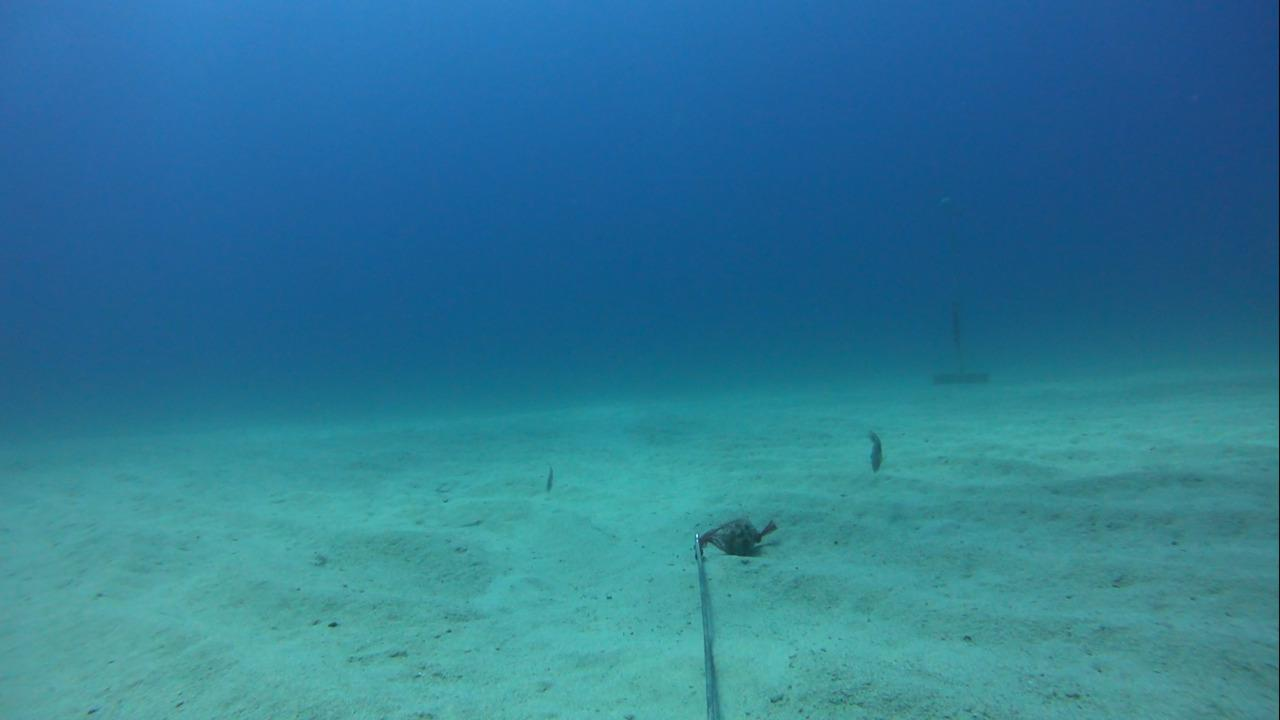raor: (850, 414, 890, 477)
